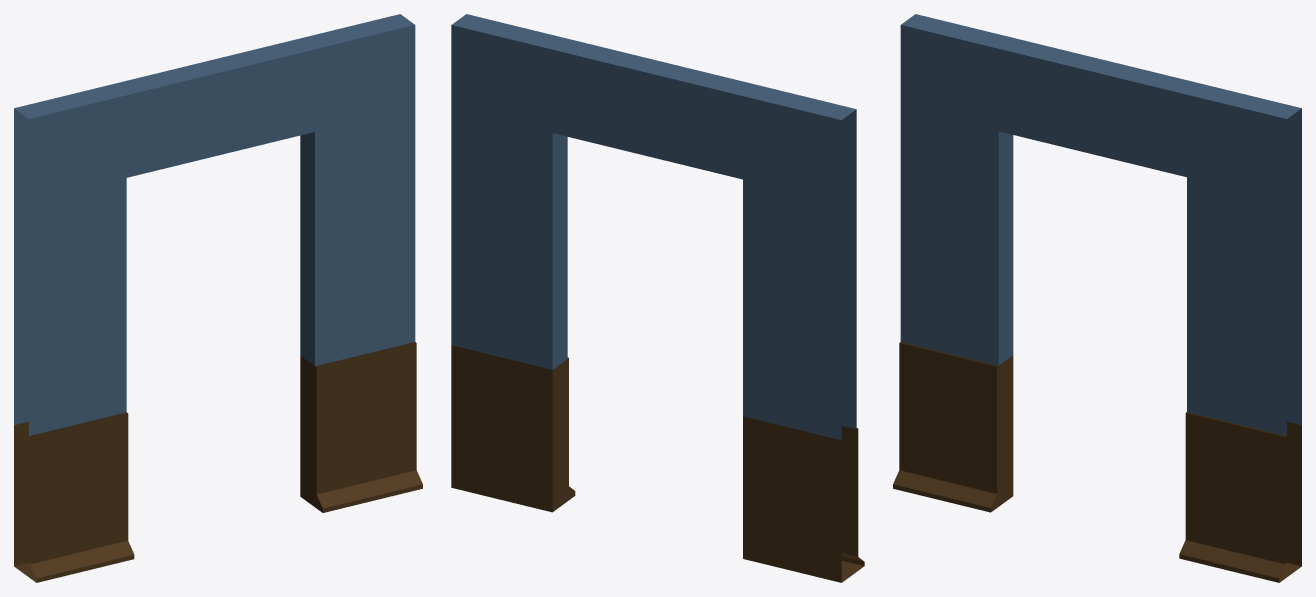
Rendered from Wall_Door.fbx.
The picture shows the model from 3 angles, left to right: view 1: azimuth 30°, elevation 25°; view 2: azimuth 150°, elevation 25°; view 3: azimuth 330°, elevation 25°; orthographic projection.
Parts seen in each view (by area): view 1: pCube1; view 2: pCube1; view 3: pCube1.
Boxes of the visible parts, x1,y1,x2,y2 form: pCube1: (14, 14, 422, 582); pCube1: (451, 14, 864, 582); pCube1: (893, 14, 1301, 582).
Bounding box in the file's own units: 15 × 17 × 1.52.
